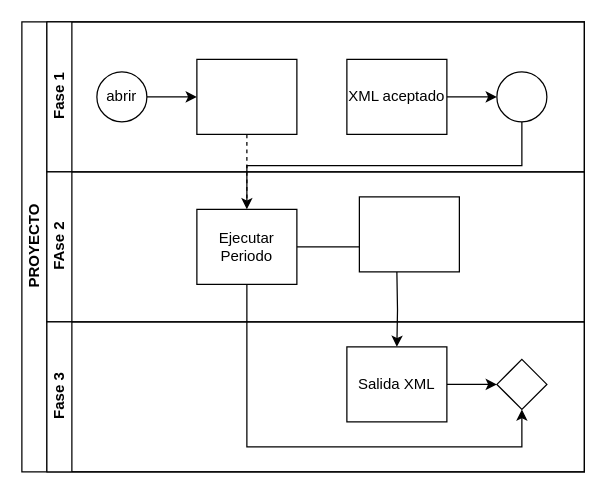
Some shapes in this 606 by 494 pixel diagram are drawn without their labels. The centre of each missing label's shape, as x and y in pixels:
"Ejecutar Automaticamente" goes at (x=408, y=234).
"Elegir Paciente" goes at (x=521, y=96).
"Fin" goes at (x=521, y=383).
"Leer XML" goes at (x=246, y=96).
